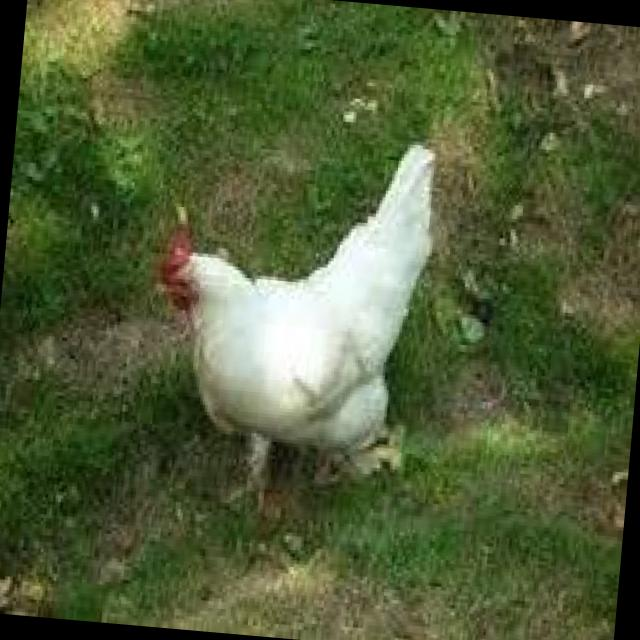animal: (146, 126, 436, 516)
